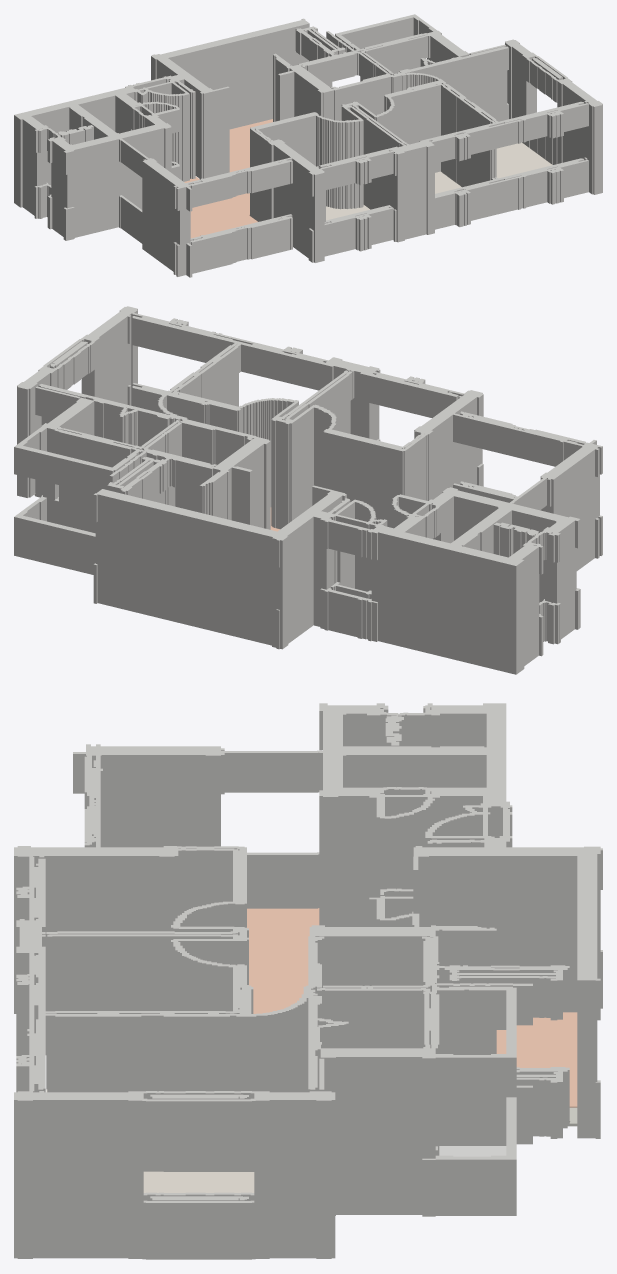
The picture shows the model from 3 angles, top to bottom: view 1: azimuth 30°, elevation 25°; view 2: azimuth 150°, elevation 25°; view 3: azimuth 270°, elevation 25°; orthographic projection. The views are drawn at different scales.
Visible parts, largest first — view 1: walls, room:kitchen:0, room:other:7, room:other:8; view 2: walls; view 3: walls, room:kitchen:0, room:other:7.
Boxes of the visible parts, x1,y1,x2,y2 form: walls: (14,14,602,277); room:kitchen:0: (184,119,272,238); room:other:7: (496,142,552,178); room:other:8: (326,171,461,220); walls: (14,306,602,674); walls: (14,703,602,1259); room:kitchen:0: (247,908,577,1107); room:other:7: (143,1171,254,1192).
Size of the model in its own units: 15.1 by 2.8 by 9.44.
